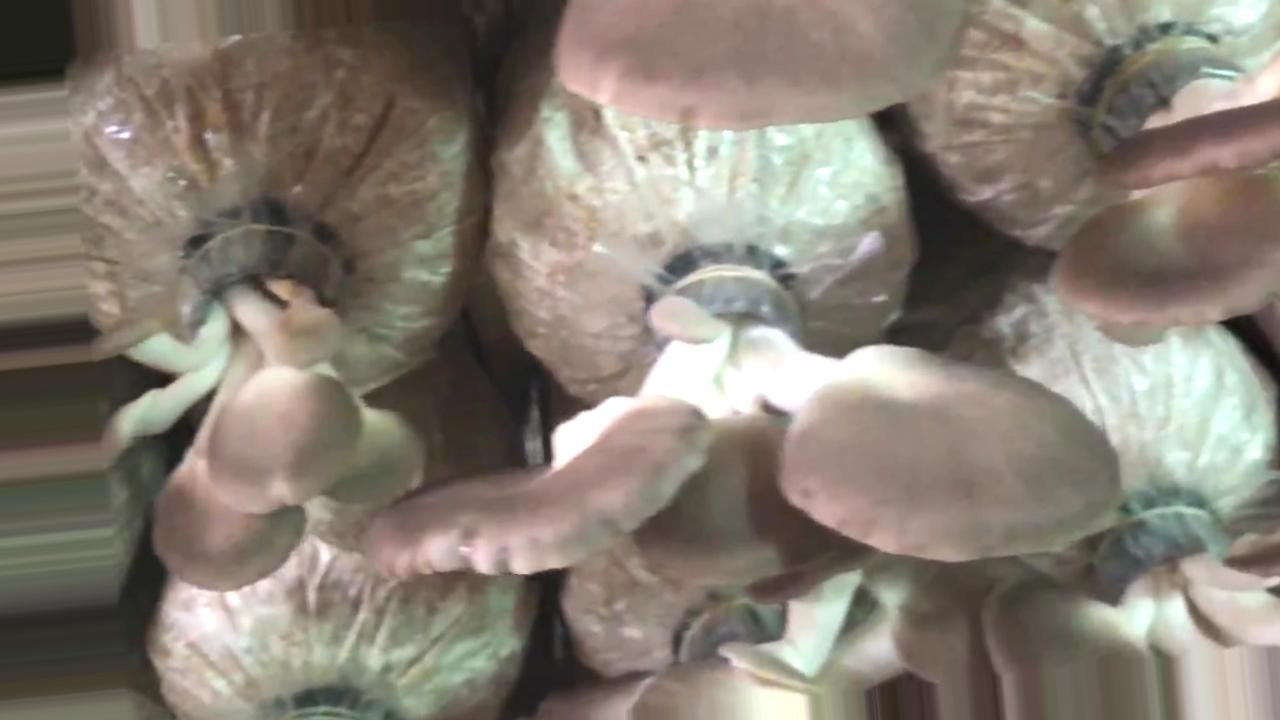nam: (364, 241, 1120, 581), (100, 198, 436, 600), (1055, 20, 1280, 347), (986, 506, 1274, 720), (557, 5, 968, 134)
